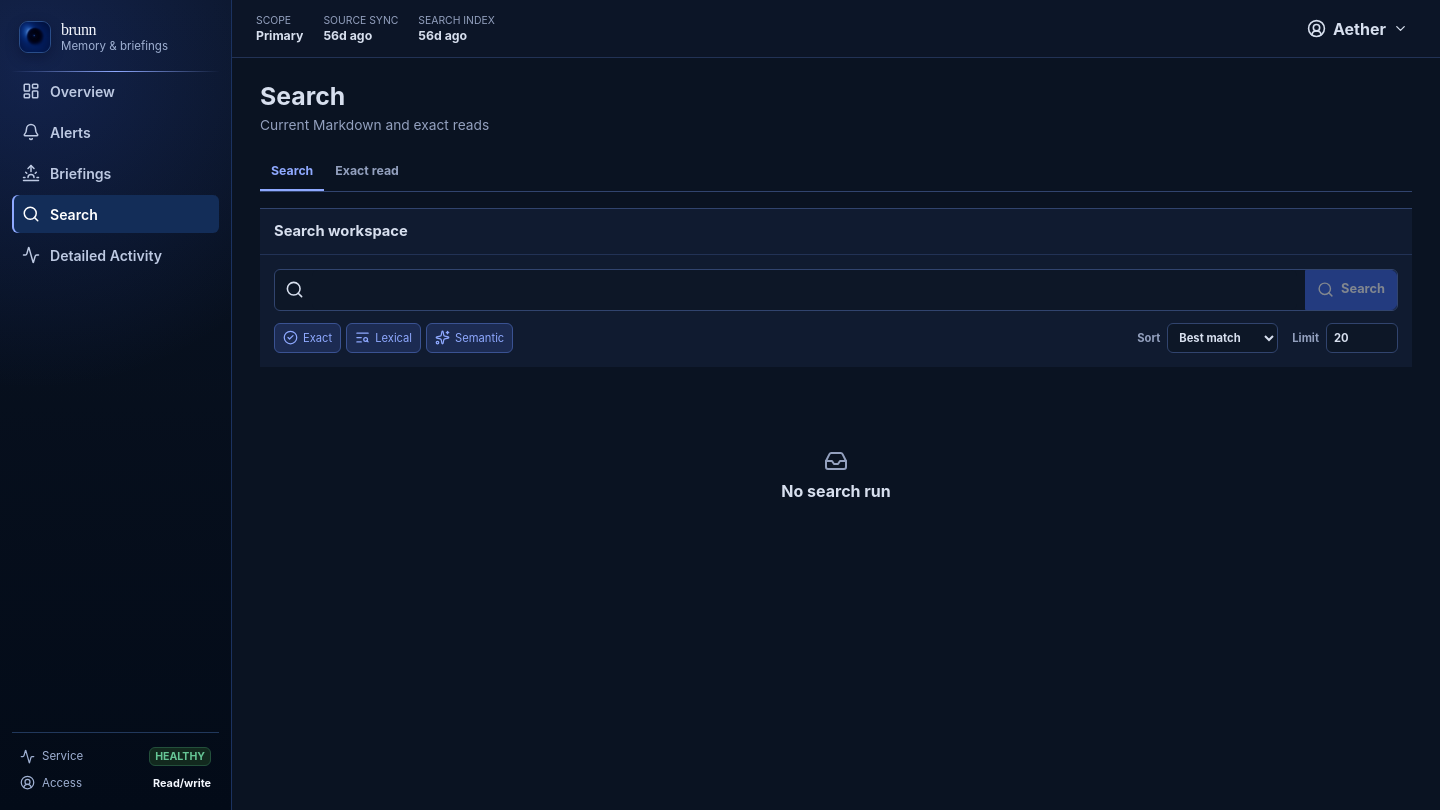
Test: workspace search and exact read › defaults to best match and reruns the search when the sort changes
Type "notes" into the field named "Search workspace" at (804, 290), box [312,270,1297,310]
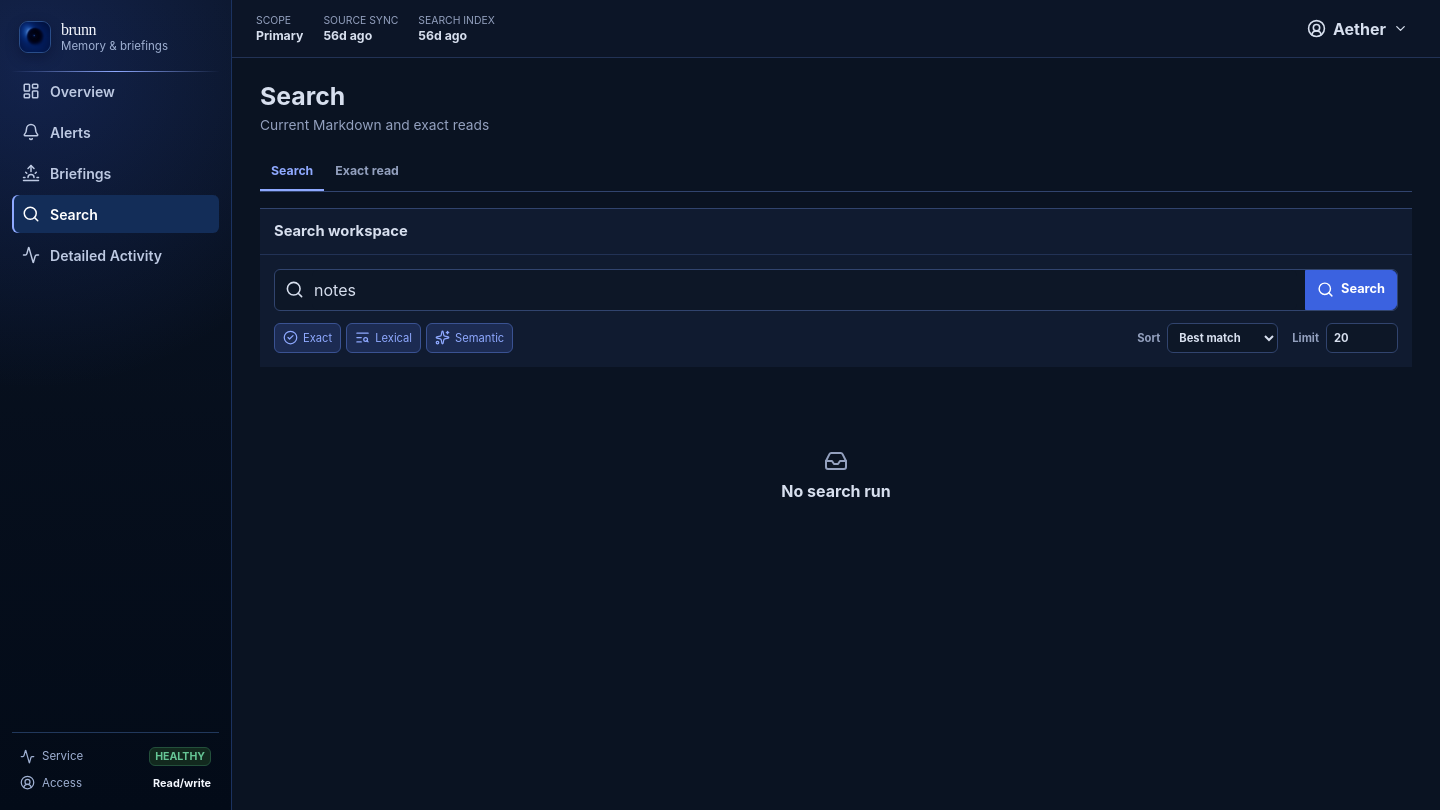
Expected: the dropdown named "Sort results" shows "Best match", [1167,323,1278,353]
Click the button "Search" at (1351, 290), box [1305,270,1397,310]
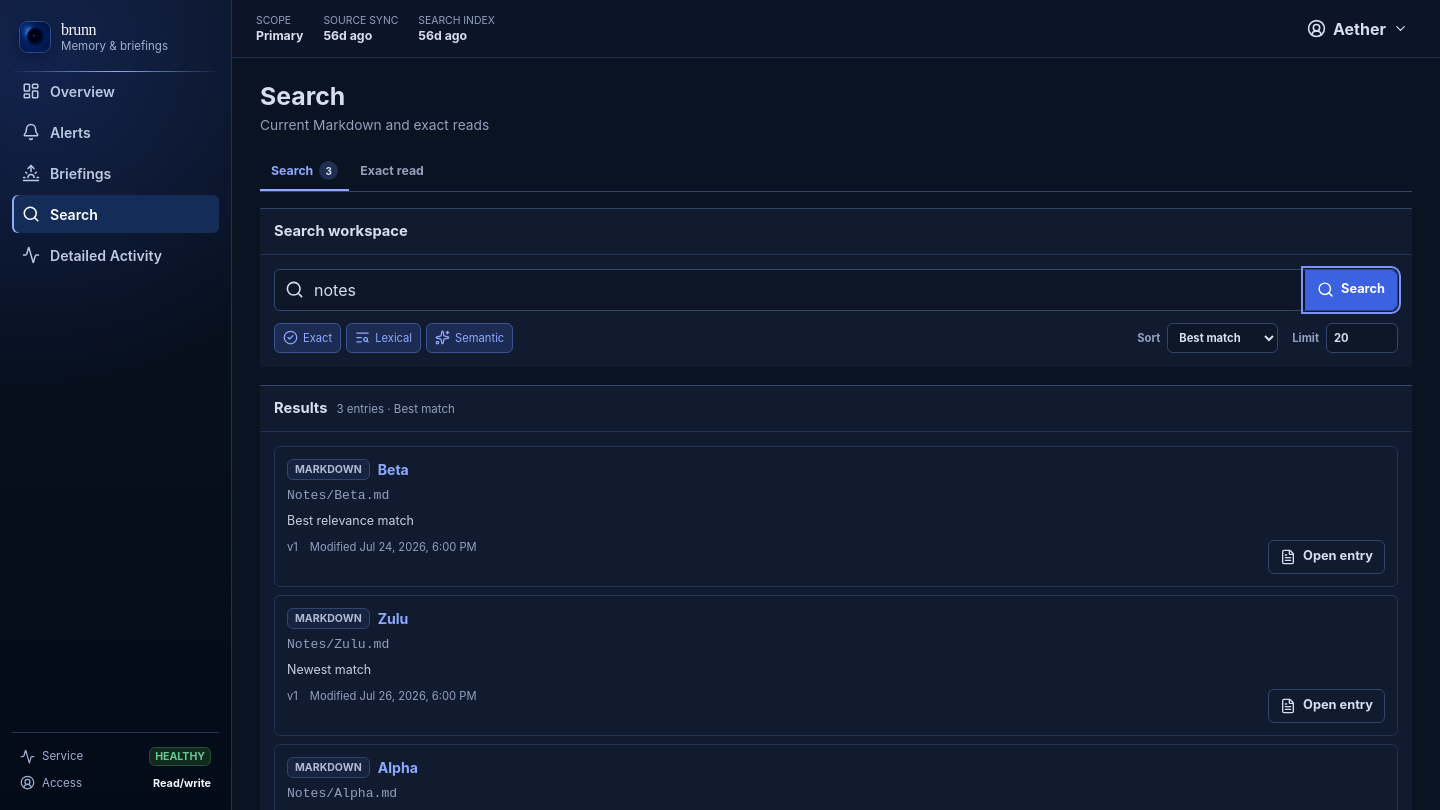
Now the headings read "Beta", "Zulu", "Alpha", in this order, box [378,461,409,478]; [378,610,408,627]; [378,759,418,776]
Select "Last modified" in the dropdown named "Sort results" at (1223, 338), box [1167,323,1278,353]
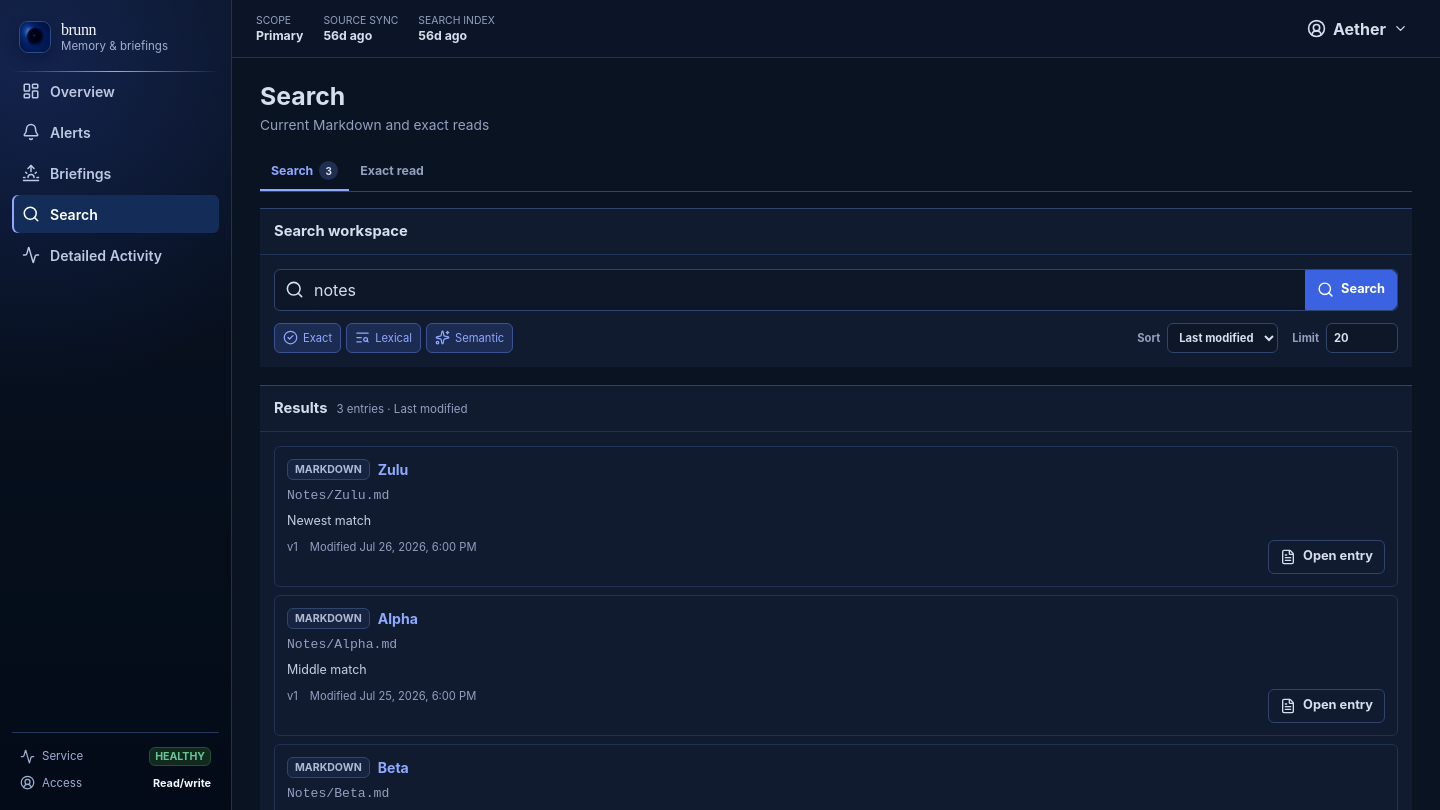
Now the headings read "Zulu", "Alpha", "Beta", in this order, box [378,461,408,478]; [378,610,418,627]; [378,759,409,776]
Select "Title" in the dropdown named "Sort results" at (1223, 338), box [1167,323,1278,353]
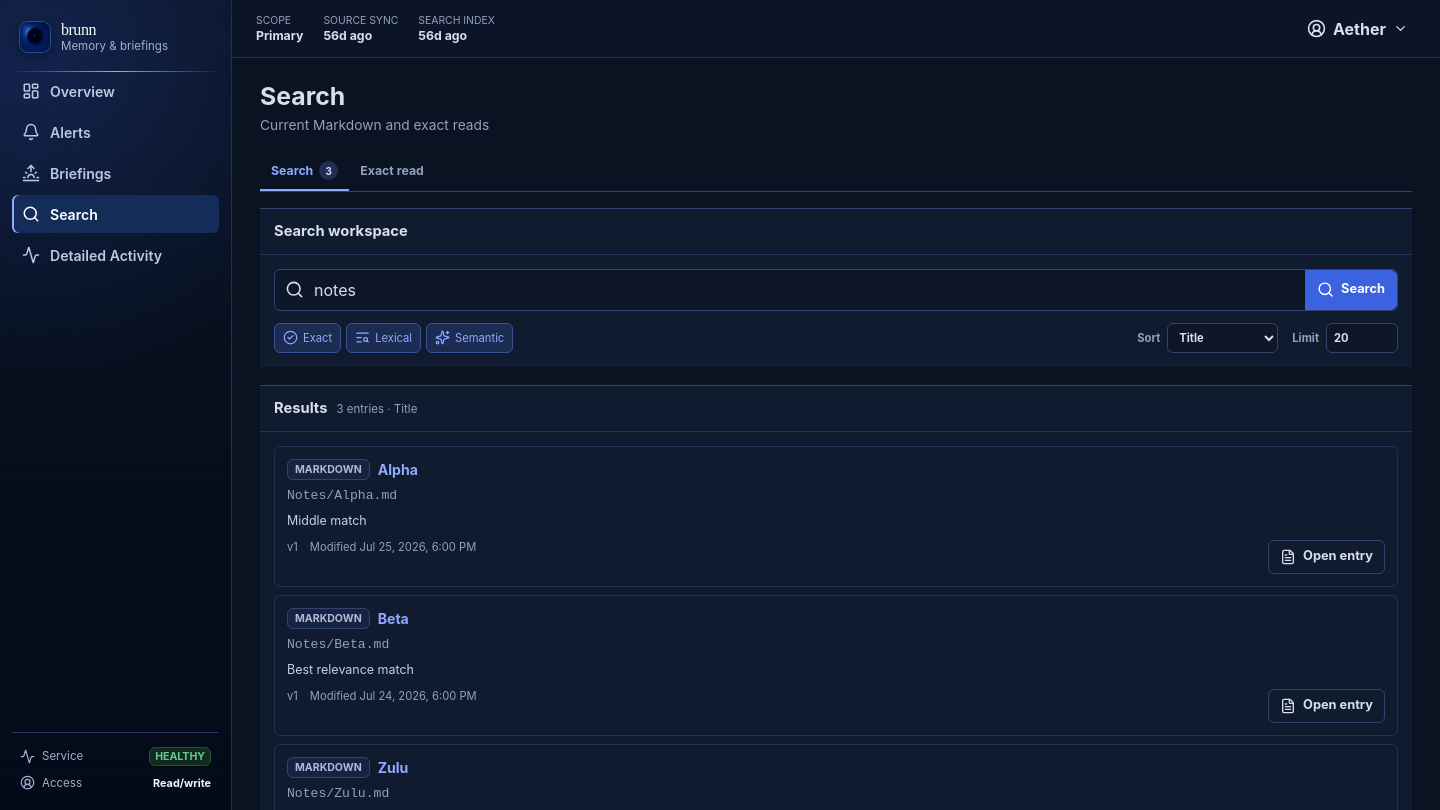
Now the headings read "Alpha", "Beta", "Zulu", in this order, box [378,461,418,478]; [378,610,409,627]; [378,759,408,776]
